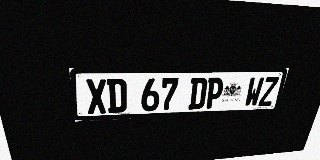6: (141, 78, 160, 112)
7: (159, 78, 179, 111)
D: (107, 79, 127, 113), (188, 78, 208, 109)
P: (204, 77, 225, 109)
W: (244, 77, 265, 107)
X: (85, 79, 107, 114)
Z: (258, 77, 279, 106)
